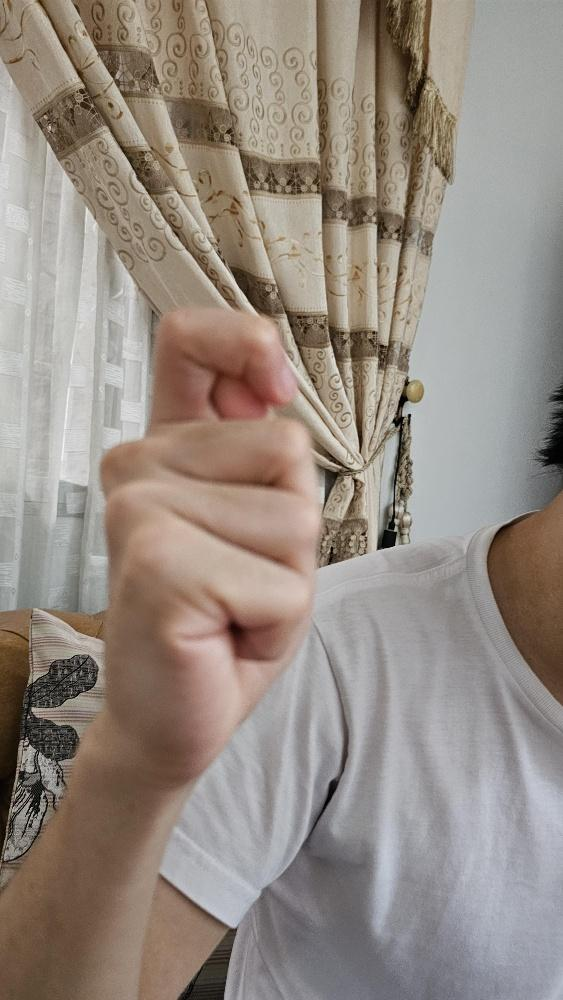t: (95, 299, 326, 786)
